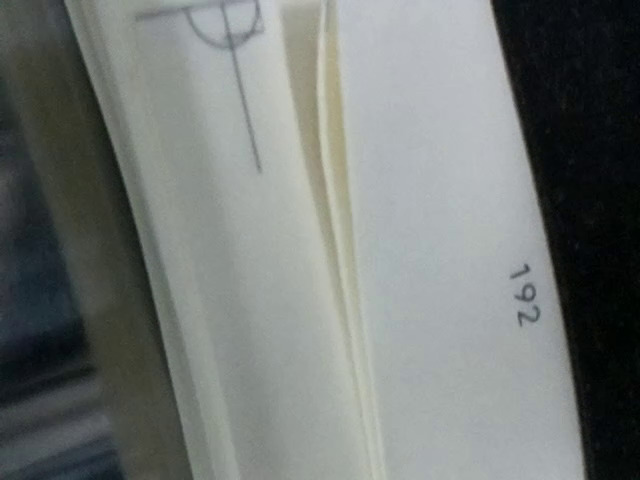not_sure: (133, 1, 271, 55)
